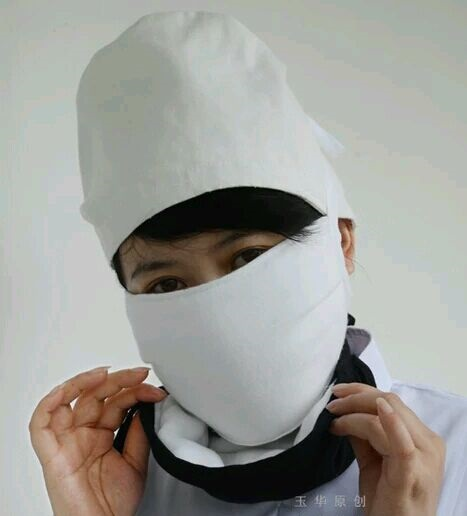face_mask: (129, 179, 333, 424)
